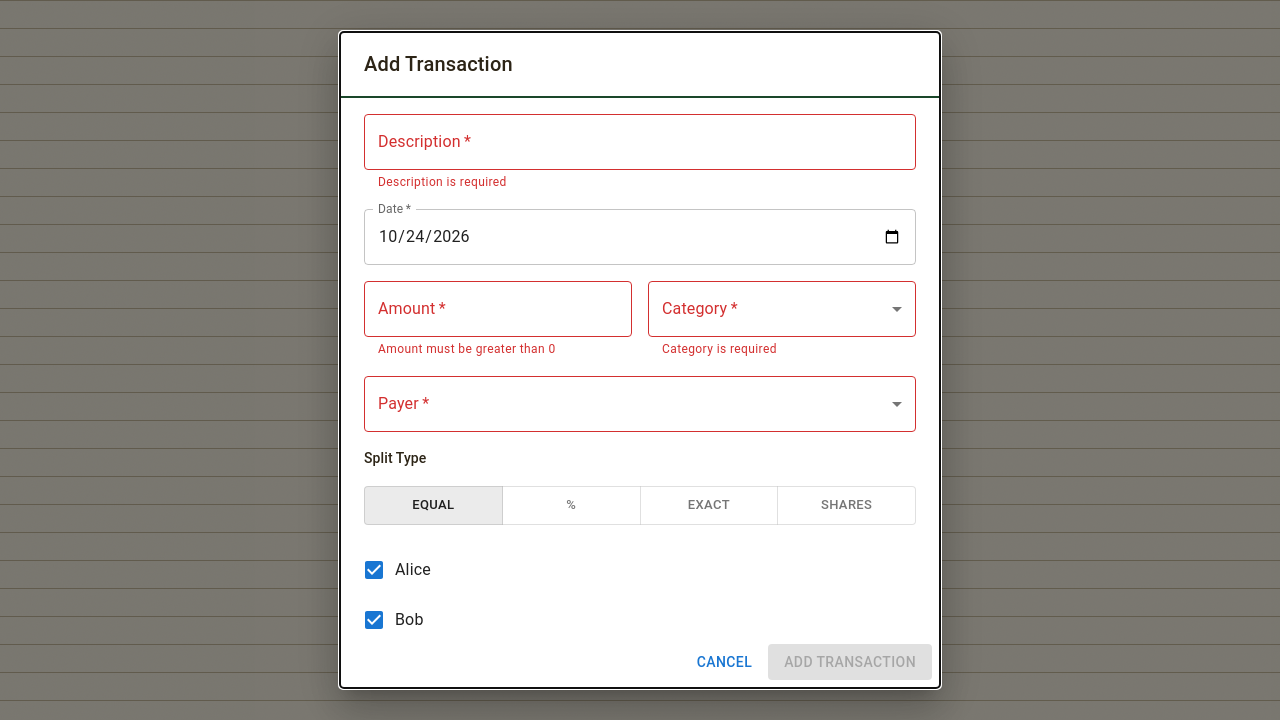
Test: TransactionForm keeps what was entered › keeps who is included in an equal split when switching type and back
This screenshot has width=1280, height=720.
Click the checkbox labelled "Bob" at {"x": 393, "y": 620}, box [362, 608, 424, 632]
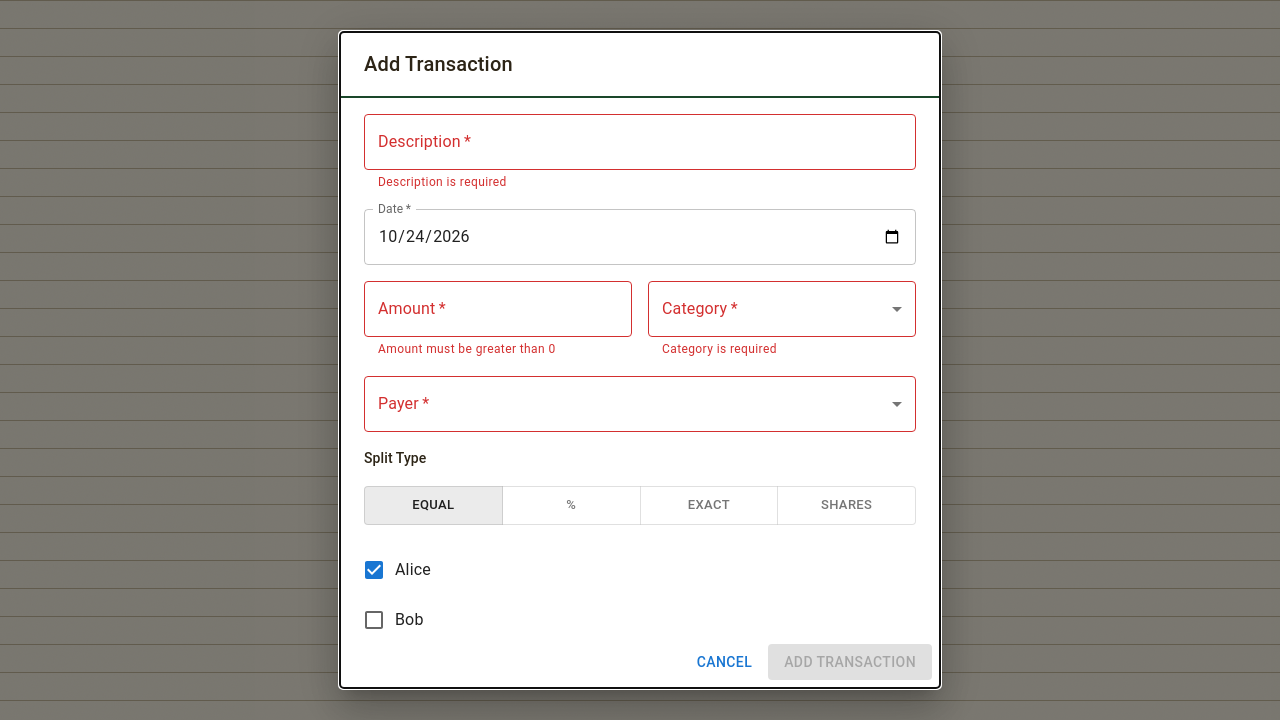
Click the button "Shares" at {"x": 847, "y": 505}, box [777, 486, 916, 525]
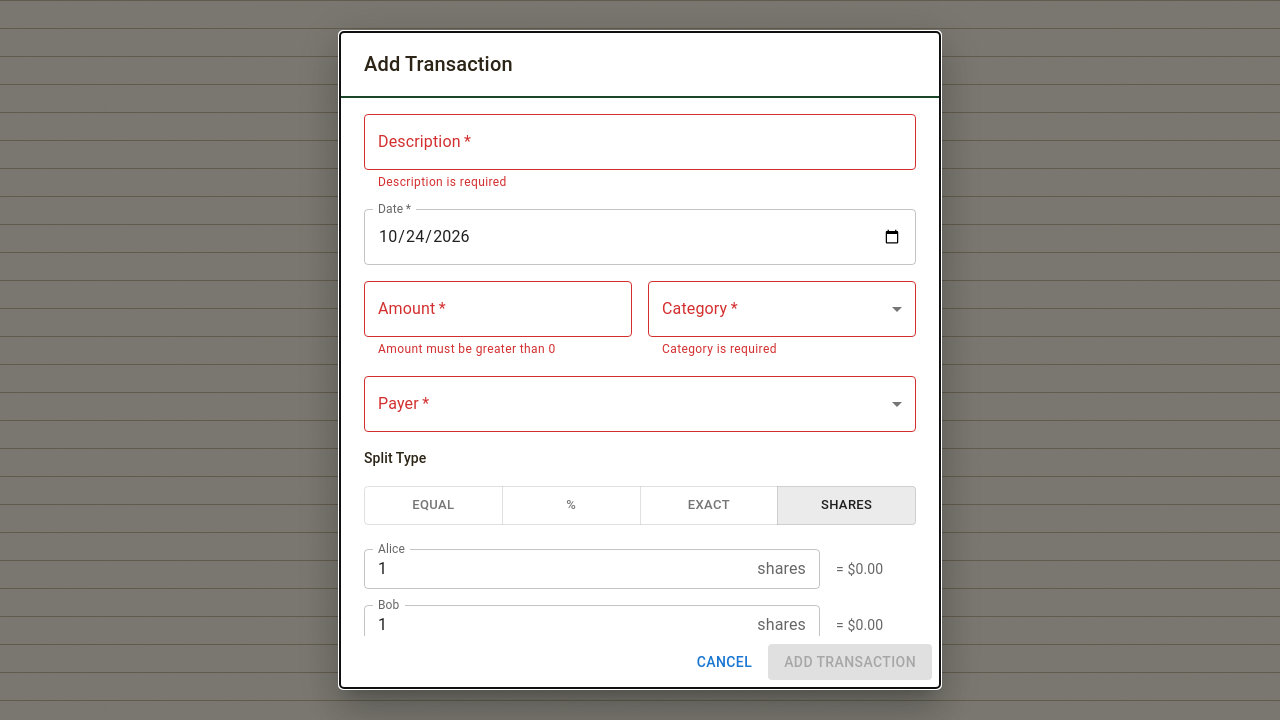
Click the button "Equal" at {"x": 433, "y": 505}, box [364, 486, 503, 525]
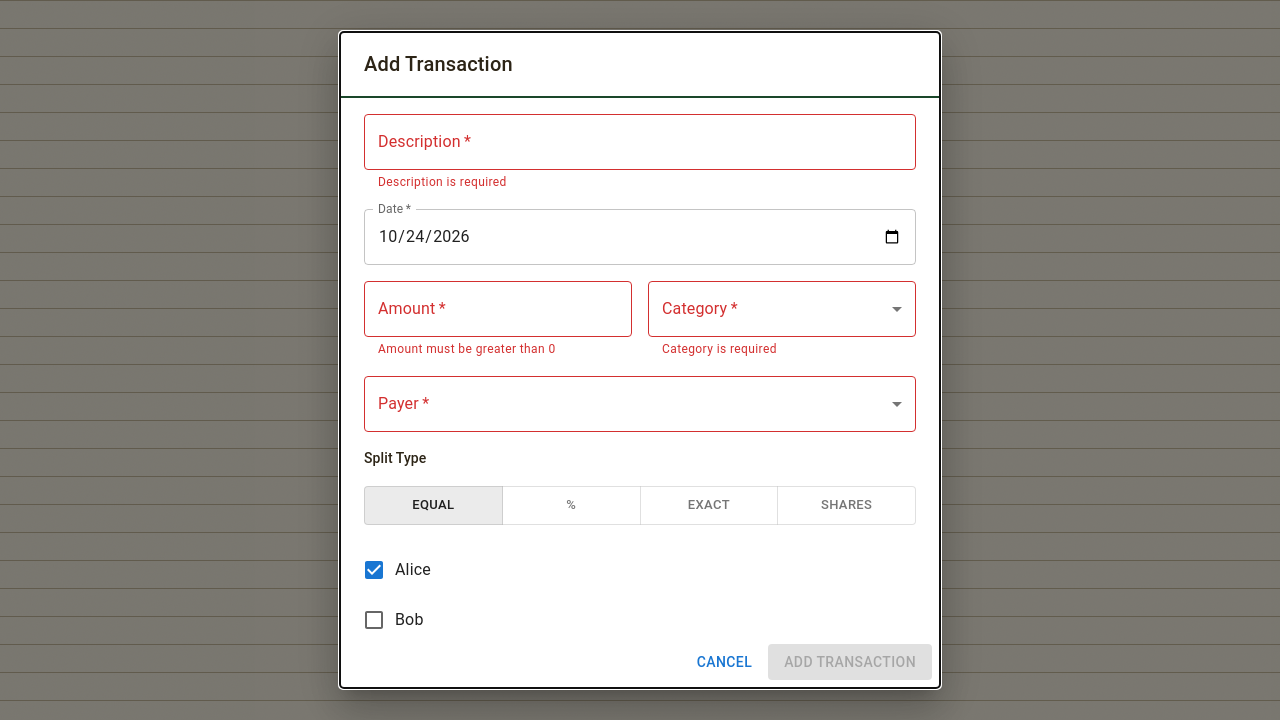
Now the checkbox labelled "Bob" is not checked, box [362, 608, 424, 632]
